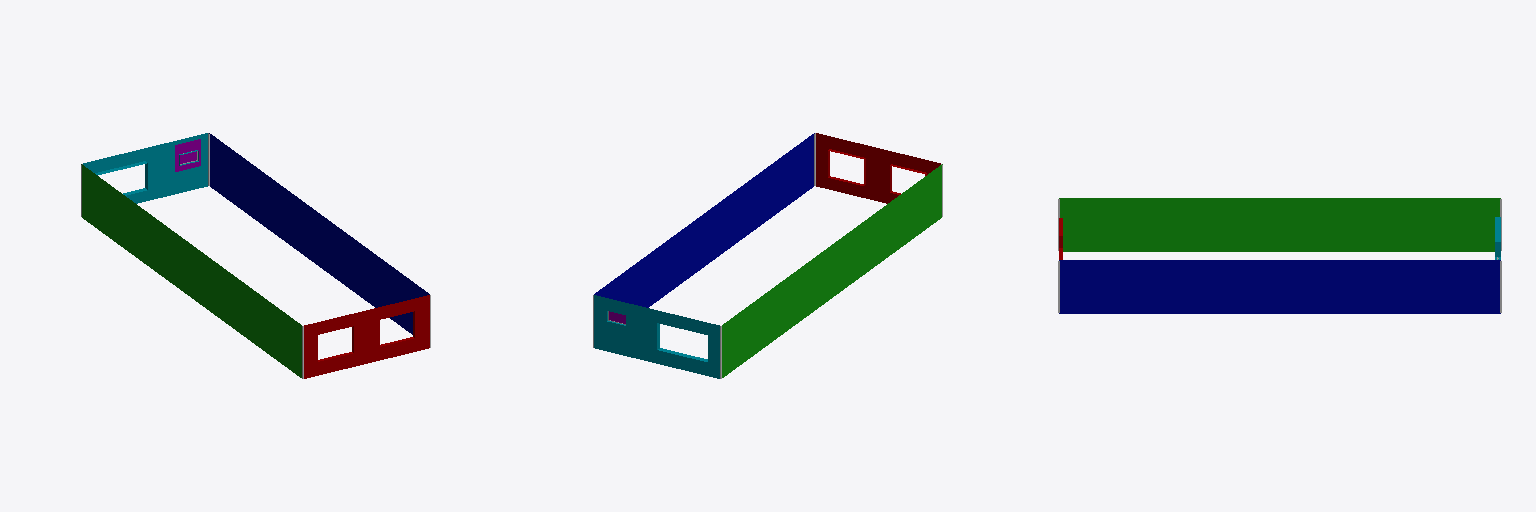
Rendered from Buildings02_floor.obj.
The picture shows the model from 3 angles: view 1: azimuth 30°, elevation 25°; view 2: azimuth 150°, elevation 25°; view 3: azimuth 270°, elevation 25°; orthographic projection.
Visible parts, largest first — view 1: Cube.001, Cube.004_Cube.008; view 2: Cube.001; view 3: Cube.001.
Boxes of the visible parts, x1,y1,x2,y2 form: Cube.001: [81, 133, 429, 378]; Cube.004_Cube.008: [175, 139, 200, 171]; Cube.001: [594, 133, 942, 378]; Cube.001: [1059, 198, 1500, 313].
Size of the model in its own units: 10.01 by 4 by 30.04.